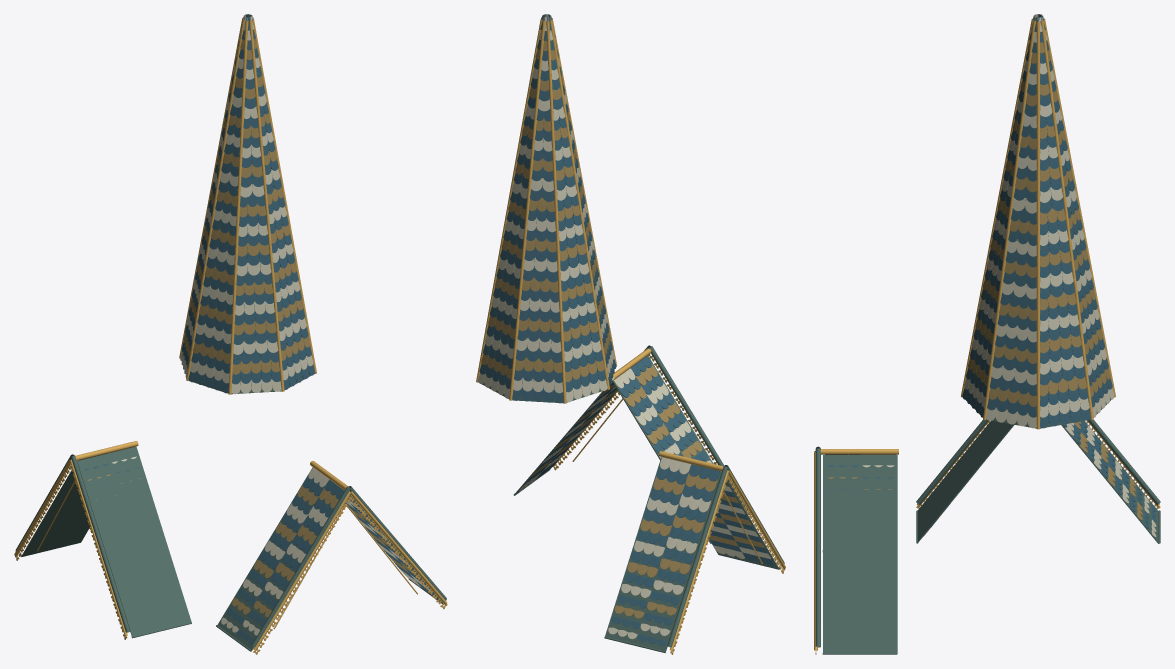
Rendered from roof-ornament.glb.
3 renders of one model, left to right at view 1: azimuth 30°, elevation 25°; view 2: azimuth 150°, elevation 25°; view 3: azimuth 270°, elevation 25°, orthographic. The views are drawn at different scales.
Visible parts, largest first — view 1: Patinated copper, Cobalt glaze, Gilded pierced metal, Ivory glaze, Ochre glaze; view 2: Cobalt glaze, Ivory glaze, Ochre glaze, Gilded pierced metal, Patinated copper; view 3: Patinated copper, Cobalt glaze, Ivory glaze, Ochre glaze, Gilded pierced metal.
Boxes of the visible parts, x1,y1,x2,y2 form: Patinated copper: (15, 117, 446, 651); Cobalt glaze: (79, 14, 437, 644); Gilded pierced metal: (14, 17, 447, 654); Ivory glaze: (96, 14, 431, 635); Ochre glaze: (87, 39, 421, 617); Cobalt glaze: (479, 14, 774, 646); Ivory glaze: (478, 14, 770, 639); Ochre glaze: (481, 41, 764, 618); Gilded pierced metal: (476, 17, 785, 654); Patinated copper: (482, 17, 784, 653); Patinated copper: (815, 17, 1160, 654); Cobalt glaze: (825, 14, 1156, 528); Ivory glaze: (861, 14, 1156, 537); Ochre glaze: (828, 40, 1142, 520); Gilded pierced metal: (814, 18, 1160, 654).
Size of the model in its own units: 8.45 by 15.84 by 8.45.
